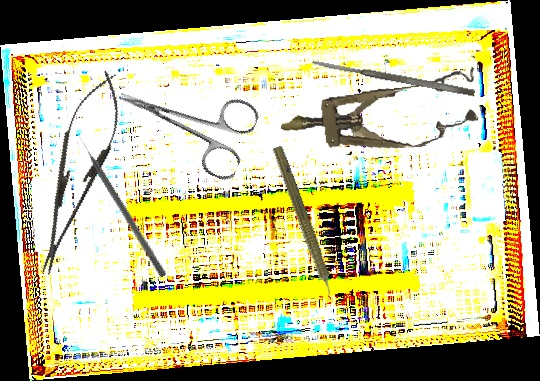Handpiece: (266, 144, 343, 310)
Iris Scissors: (105, 55, 263, 184)
Needle Holder: (20, 64, 134, 283)
Pusher: (75, 132, 169, 279)
Spatula Surgical: (311, 57, 476, 98)
Speculum: (276, 66, 483, 164)
